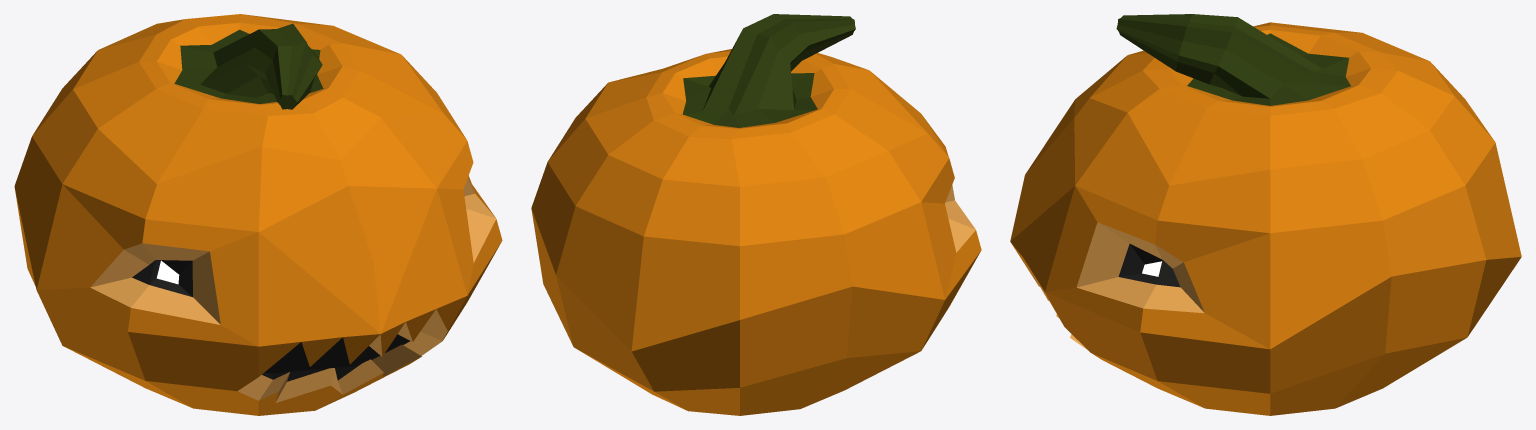
The model's file is PumpkinV5.glb.
3 renders of one model, left to right at view 1: azimuth 30°, elevation 25°; view 2: azimuth 150°, elevation 25°; view 3: azimuth 270°, elevation 25°, orthographic. The views are drawn at different scales.
Parts seen in each view (by area): view 1: PumpkinV5; view 2: PumpkinV5; view 3: PumpkinV5.
Part boxes in pixels (x1,y1,x2,y2): PumpkinV5: (14, 14, 502, 415); PumpkinV5: (531, 14, 981, 415); PumpkinV5: (1010, 14, 1521, 415).
Size of the model in its own units: 0.192 by 0.1467 by 0.1967.
2 materials, 2 textured.
